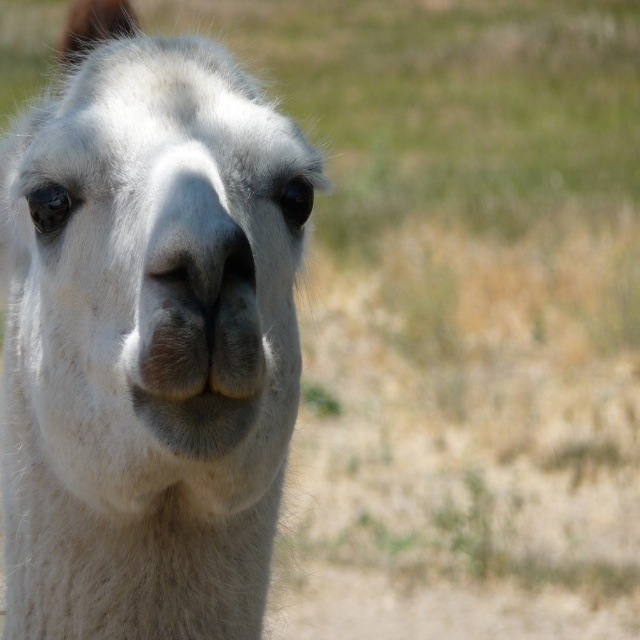Camel: (0, 0, 348, 639)
